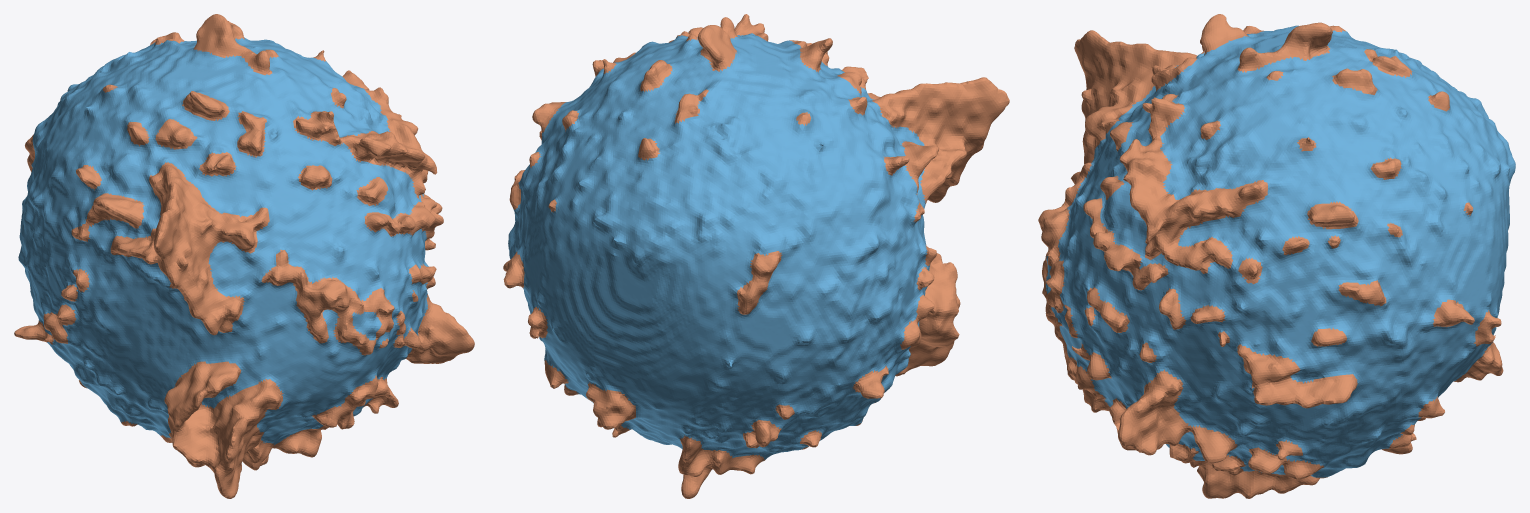
3 renders of one model, left to right at view 1: azimuth 30°, elevation 25°; view 2: azimuth 150°, elevation 25°; view 3: azimuth 270°, elevation 25°, orthographic. The views are drawn at different scales.
Size of the model in its own units: 141 by 148 by 142.
